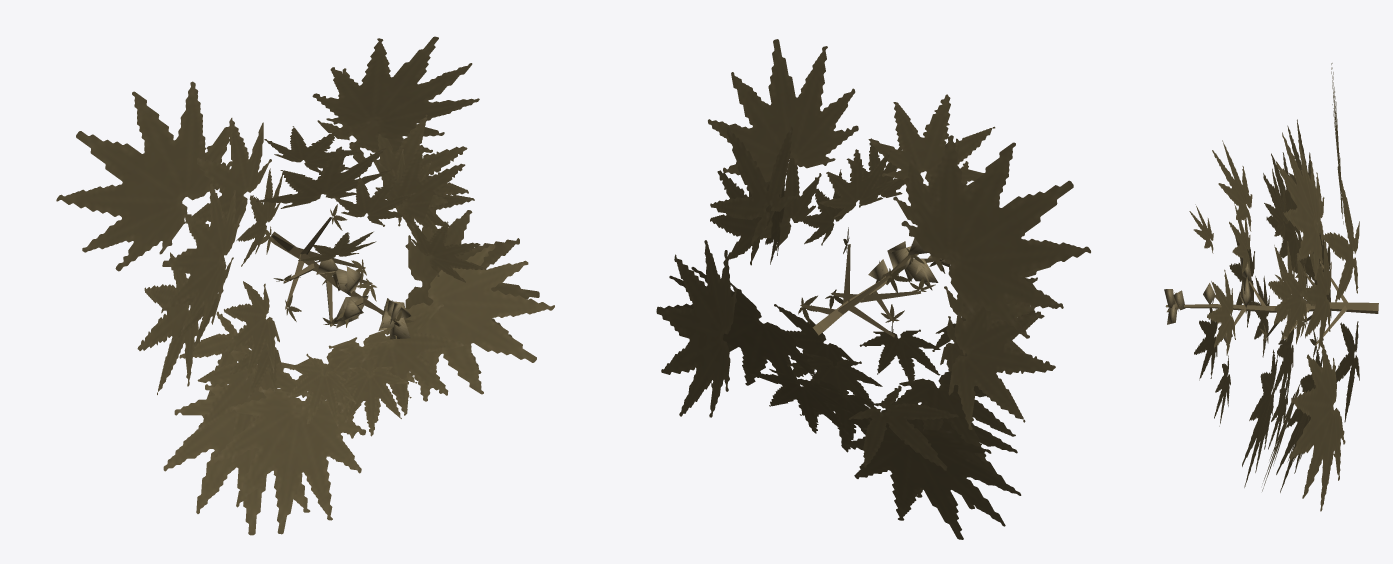
File: p_male_haze_preflower_c4_cards.obj
The picture shows the model from 3 angles, left to right: view 1: azimuth 30°, elevation 25°; view 2: azimuth 150°, elevation 25°; view 3: azimuth 270°, elevation 25°; orthographic projection. The views are drawn at different scales.
Size of the model in its own units: 1.32 by 1.21 by 0.527.
Materials: 1 (1 with a texture image).
